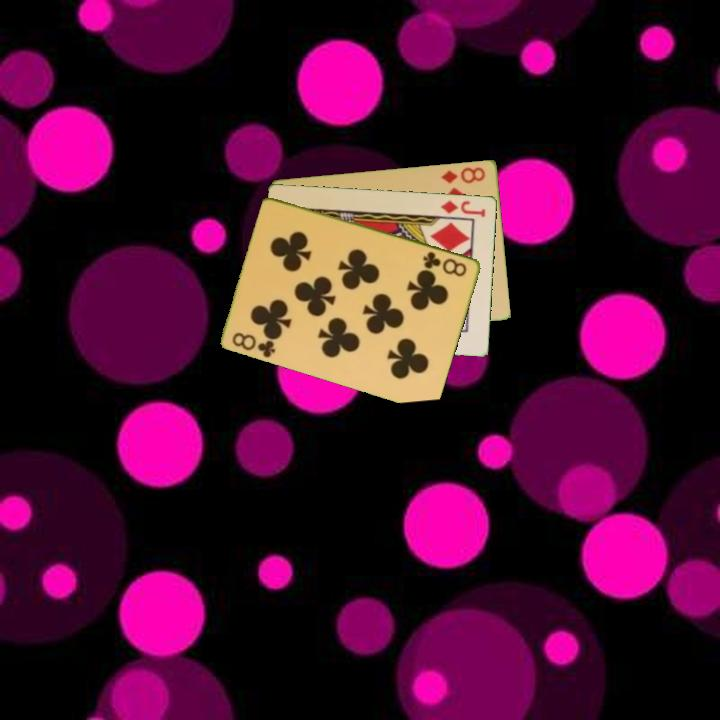8c: (420, 248, 470, 279), (229, 329, 279, 360)
8d: (438, 163, 488, 186)
Jd: (438, 197, 488, 220)
